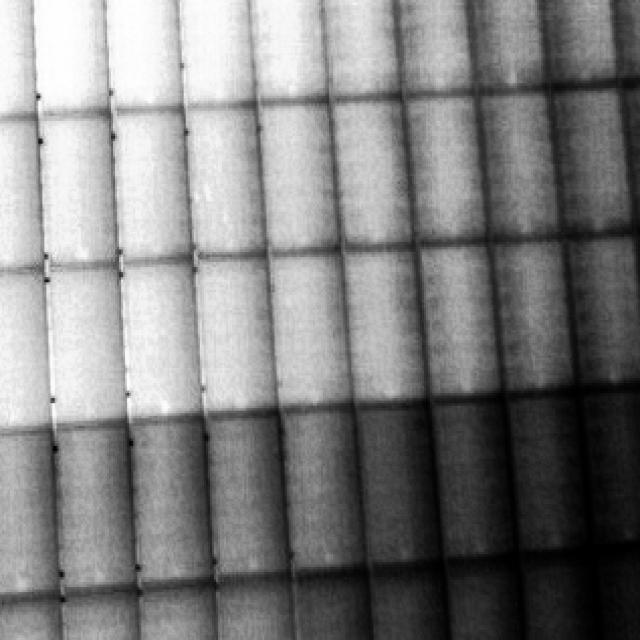PV-modules: (352, 397, 456, 572), (120, 415, 220, 593), (280, 402, 380, 578), (198, 407, 296, 584), (426, 396, 526, 566), (496, 387, 595, 558), (47, 418, 143, 594), (184, 251, 283, 419), (335, 244, 435, 410), (417, 234, 517, 398), (479, 238, 580, 400), (121, 253, 215, 423), (268, 247, 363, 415), (248, 90, 345, 252), (42, 260, 135, 428), (324, 95, 421, 256), (473, 80, 570, 238), (111, 108, 205, 267), (181, 101, 273, 263), (402, 92, 496, 250), (540, 77, 636, 230), (36, 112, 126, 272), (561, 224, 640, 391), (0, 423, 71, 597), (573, 380, 640, 550), (30, 0, 119, 121), (0, 264, 63, 433), (101, 0, 194, 113), (169, 0, 264, 108), (389, 0, 484, 103), (240, 0, 329, 108), (456, 0, 551, 101), (315, 0, 412, 96), (513, 544, 610, 640), (442, 554, 543, 640), (527, 0, 618, 93), (0, 113, 52, 274), (368, 562, 464, 640), (290, 569, 386, 640), (210, 572, 307, 640), (135, 577, 230, 640), (0, 0, 46, 126), (56, 582, 148, 640), (589, 536, 640, 640), (0, 589, 72, 640)
